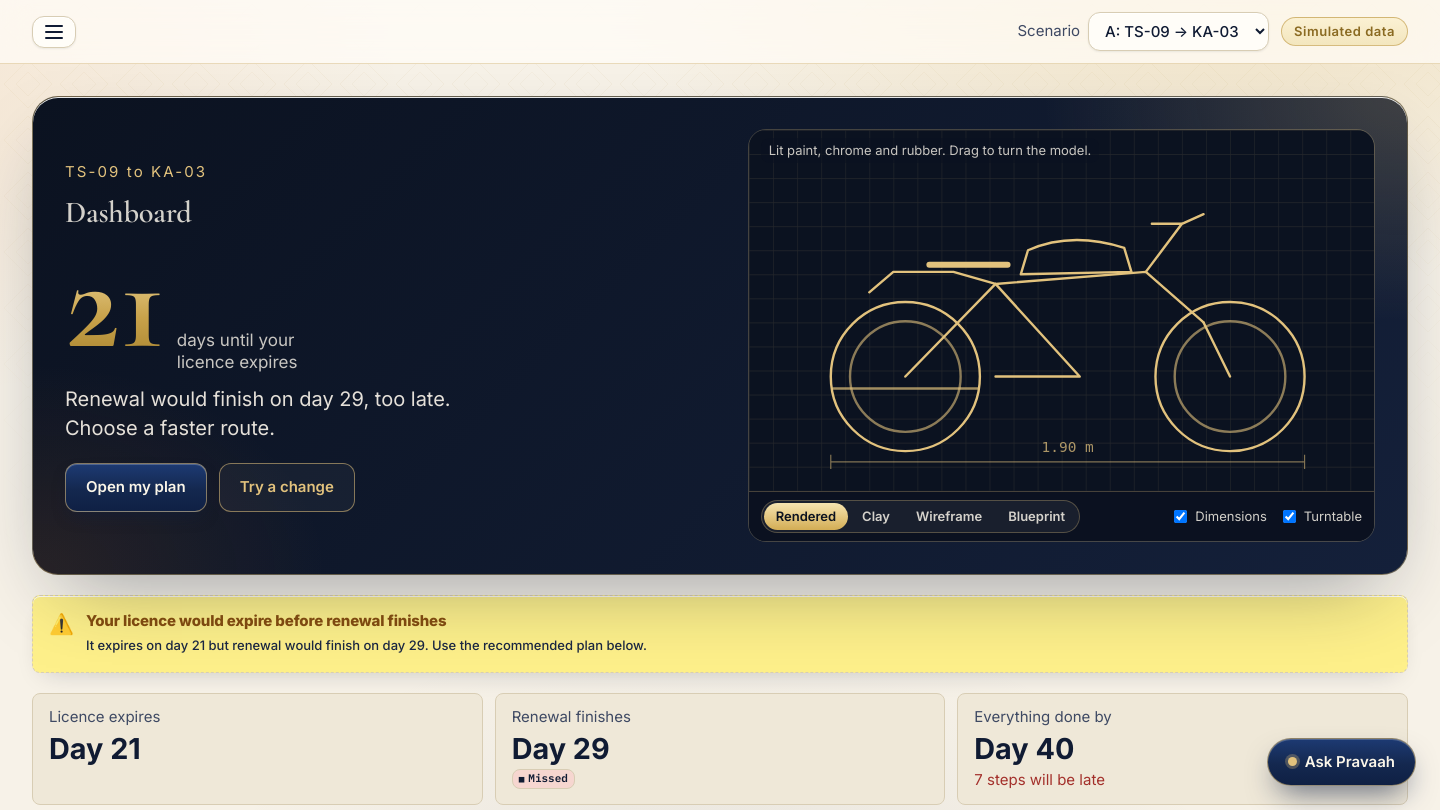
Test: App shell › starts with the sidebar closed on a phone and closes it with Escape
The width and height of the screenshot is (1440, 810).
Click the button named "open navigation menu".
click(54, 32)  # box [32, 16, 76, 48]
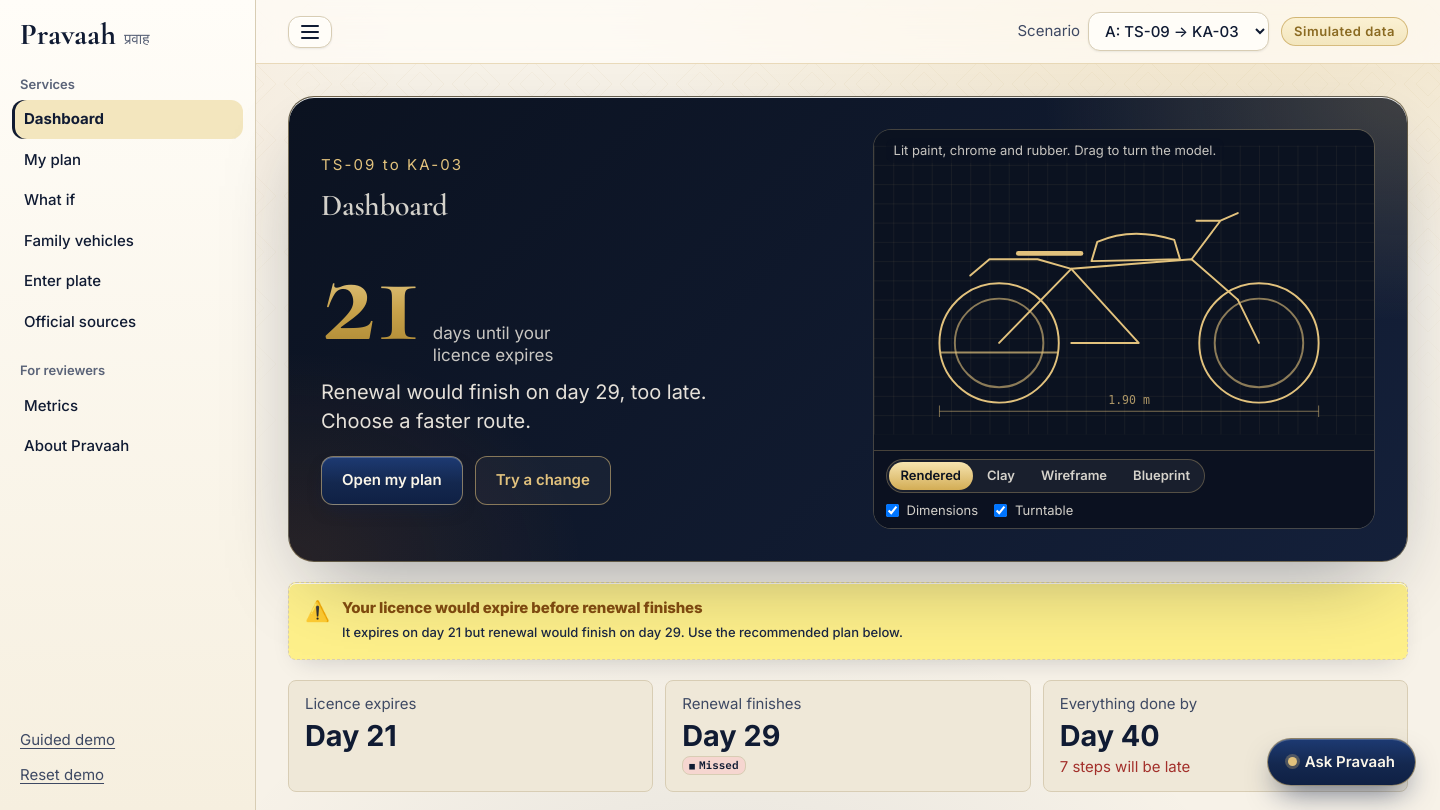
Now the button named "close navigation menu" is shown, box [288, 16, 332, 48]
Press Escape
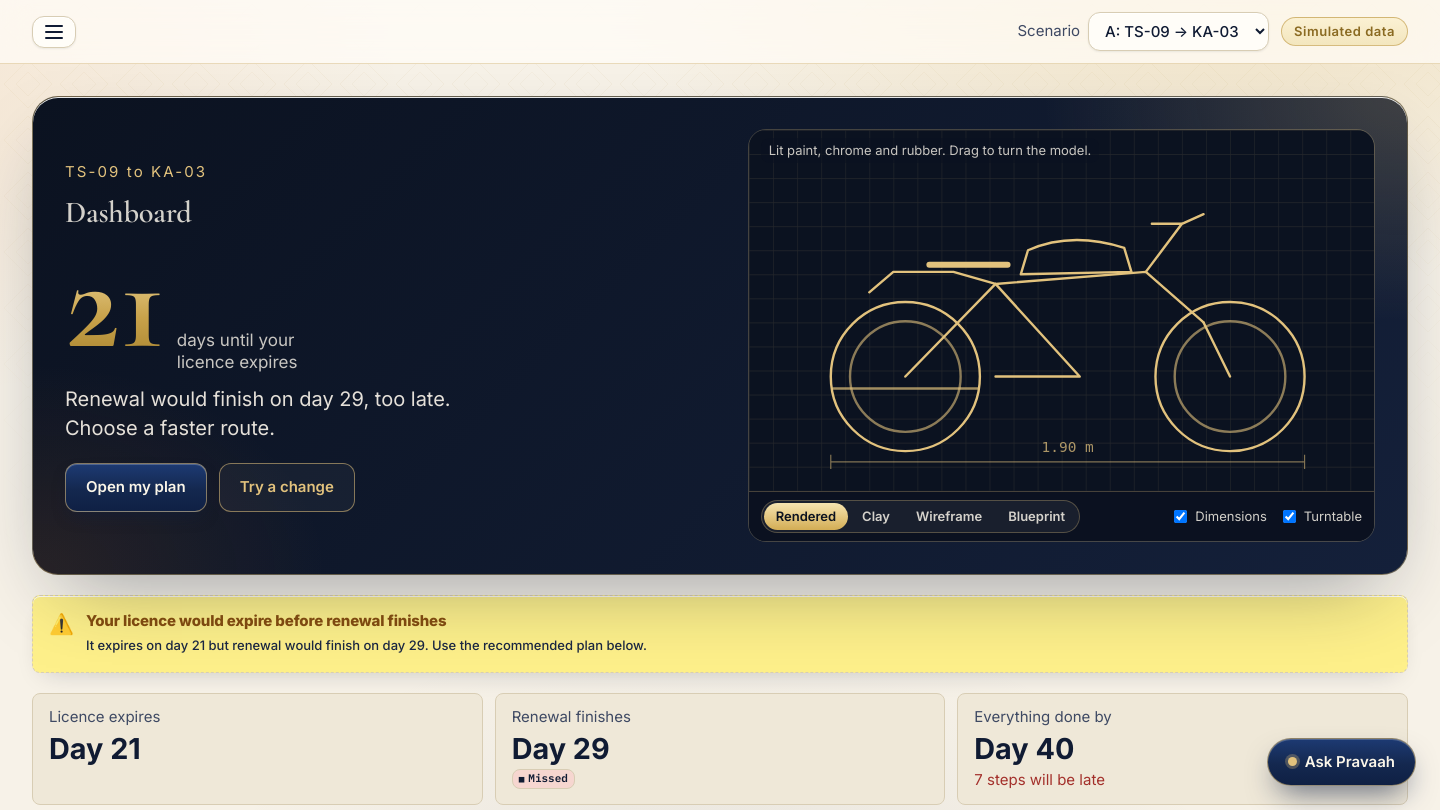
Now the button named "open navigation menu" is collapsed, box [32, 16, 76, 48]
